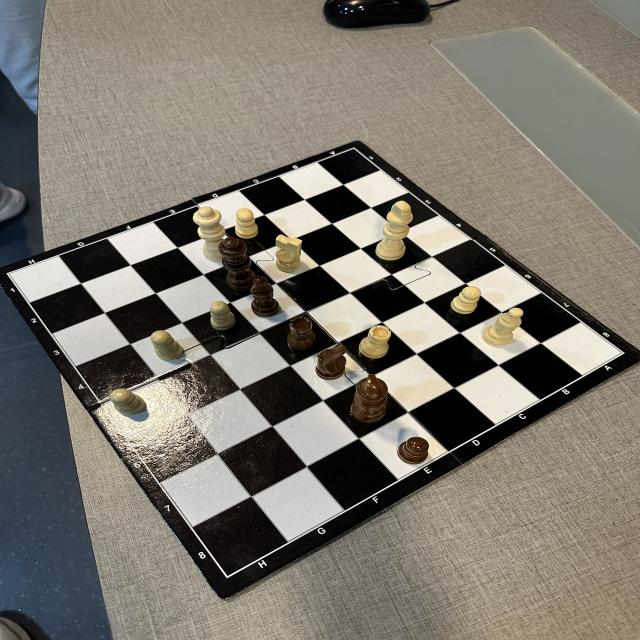Black-Bishop: (250, 275, 281, 317)
Black-King: (351, 374, 388, 424)
Black-Knight: (315, 344, 347, 381)
Black-Pawn: (396, 436, 429, 465)
Black-Queen: (218, 237, 251, 292)
Black-Rook: (287, 315, 317, 351)
White-Bishop: (481, 308, 524, 347)
White-King: (375, 200, 414, 262)
White-Knight: (275, 234, 303, 273)
White-Pawn: (109, 388, 146, 416), (150, 330, 183, 360), (450, 286, 482, 315), (209, 300, 236, 330), (234, 208, 258, 239)
White-Queen: (193, 205, 226, 262)
White-Rook: (359, 326, 391, 360)
